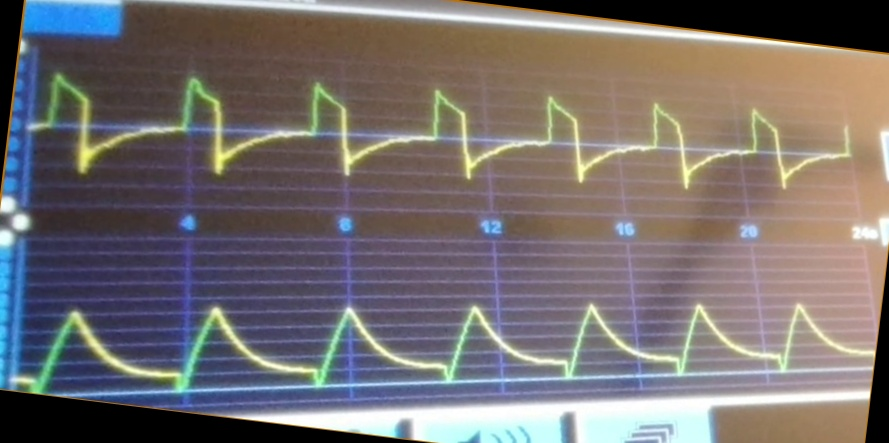Flow: (35, 72, 850, 200)
Leakage Volume: (23, 295, 870, 393)
